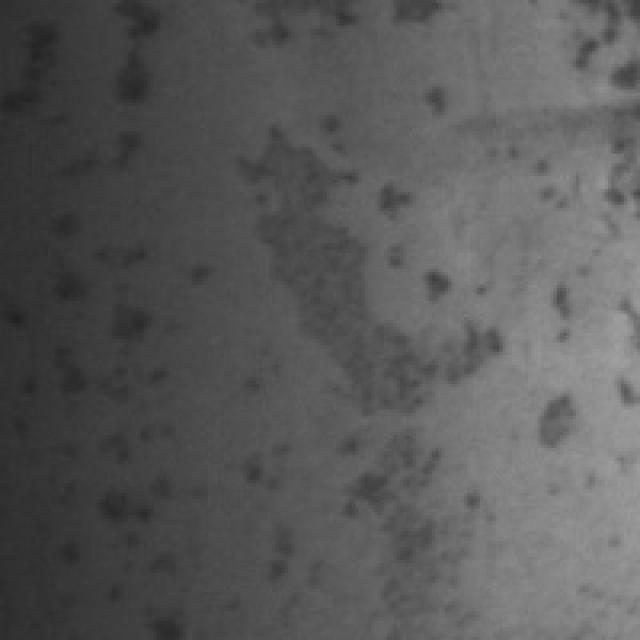pitted_surface: (9, 125, 252, 630), (237, 61, 502, 413), (250, 394, 508, 608), (531, 0, 640, 483)
